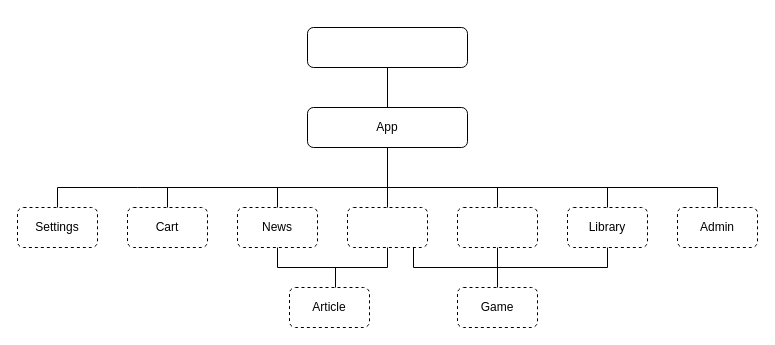
This 775x345 diagram has some shape labels left out. Each missing label, with the box of its shape:
Dashboard: (346, 206, 428, 248)
Index: (306, 26, 468, 68)
Shop: (456, 206, 538, 248)
